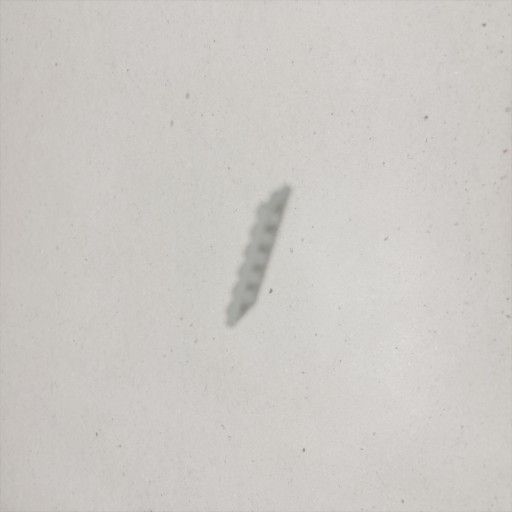lego: (224, 182, 294, 330)
